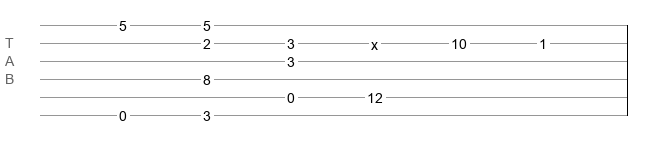0: (119, 108, 127, 118), (287, 90, 295, 100)
1: (539, 36, 547, 46)
10: (451, 36, 467, 46)
12: (367, 90, 383, 100)
2: (203, 36, 211, 46)
3: (203, 108, 211, 118), (287, 54, 295, 64), (287, 36, 295, 46)
5: (119, 18, 127, 28), (203, 18, 211, 28)
8: (203, 72, 211, 82)
x: (371, 37, 378, 45)
